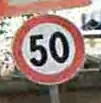limite 50: (13, 13, 85, 86)
